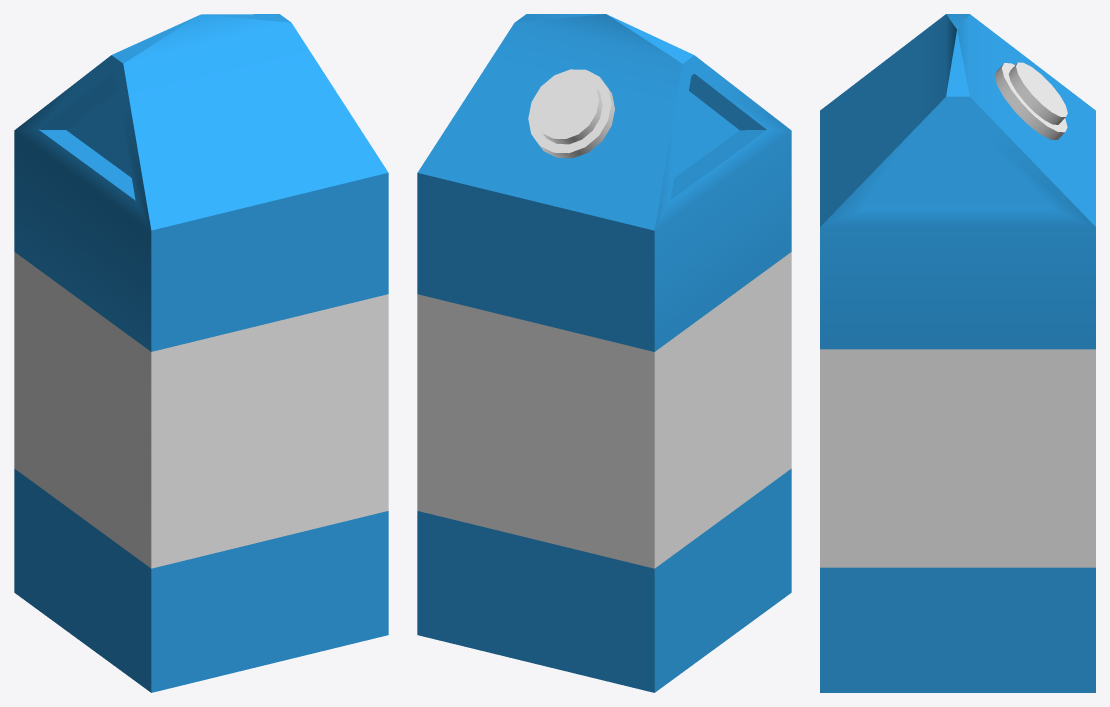
The model's file is Tevoyamatarsofi2.fbx.
3 views of the same model, side by side, from view 1: azimuth 30°, elevation 25°; view 2: azimuth 150°, elevation 25°; view 3: azimuth 270°, elevation 25° (orthographic).
Parts seen in each view (by area): view 1: Leche; view 2: Leche; view 3: Leche.
Part boxes in pixels (x1,y1,x2,y2): Leche: [14, 14, 388, 692]; Leche: [417, 14, 791, 692]; Leche: [820, 14, 1095, 692].
Bounding box in the file's own units: 103 × 248 × 103.
